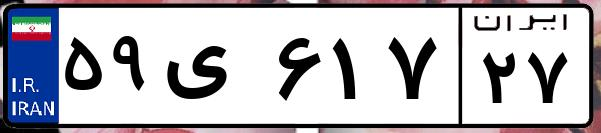1: (330, 28, 385, 110)
2: (475, 38, 525, 113)
5: (57, 26, 110, 100)
6: (270, 28, 330, 110)
7: (385, 28, 445, 110), (525, 38, 570, 115)
9: (110, 28, 158, 98)
ی: (158, 20, 270, 120)
